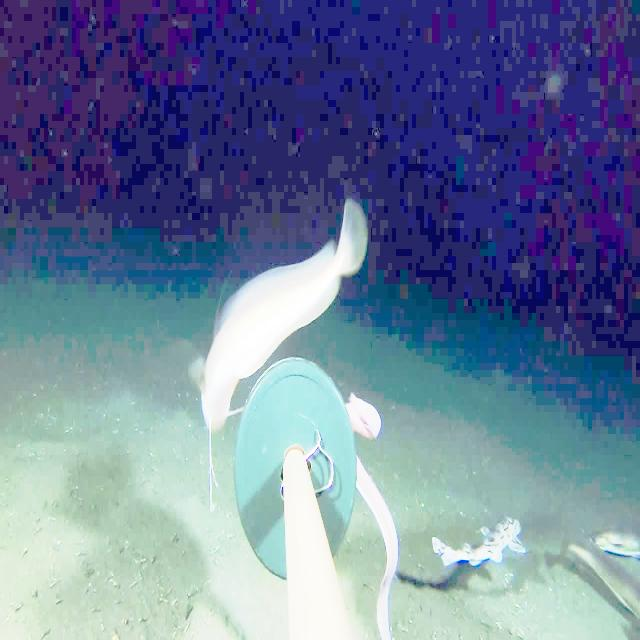eel: (339, 370, 408, 637)
fish: (179, 181, 391, 507), (554, 516, 640, 639), (422, 503, 534, 586), (581, 505, 640, 562)
pole: (238, 356, 359, 639)
